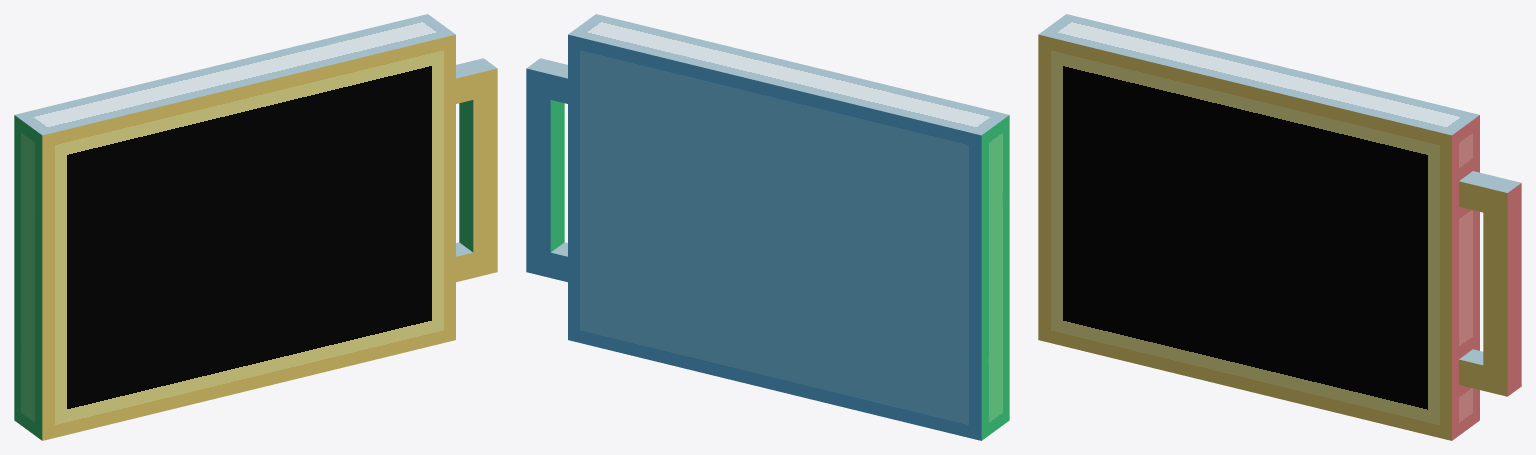
The model's file is monitor_30x20_flipped.glb.
The picture shows the model from 3 angles, left to right: view 1: azimuth 30°, elevation 25°; view 2: azimuth 150°, elevation 25°; view 3: azimuth 330°, elevation 25°; orthographic projection.
Visible parts, largest first — view 1: cube (×4); view 2: cube (×4); view 3: cube (×4).
Part boxes in pixels (left/top/right/bottom): cube (×4): left=14, top=14, right=497, bottom=440; cube (×4): left=526, top=14, right=1009, bottom=440; cube (×4): left=1038, top=14, right=1521, bottom=440.
Size of the model in its own units: 2.38 by 1.5 by 0.25.
1 material, 1 textured.
